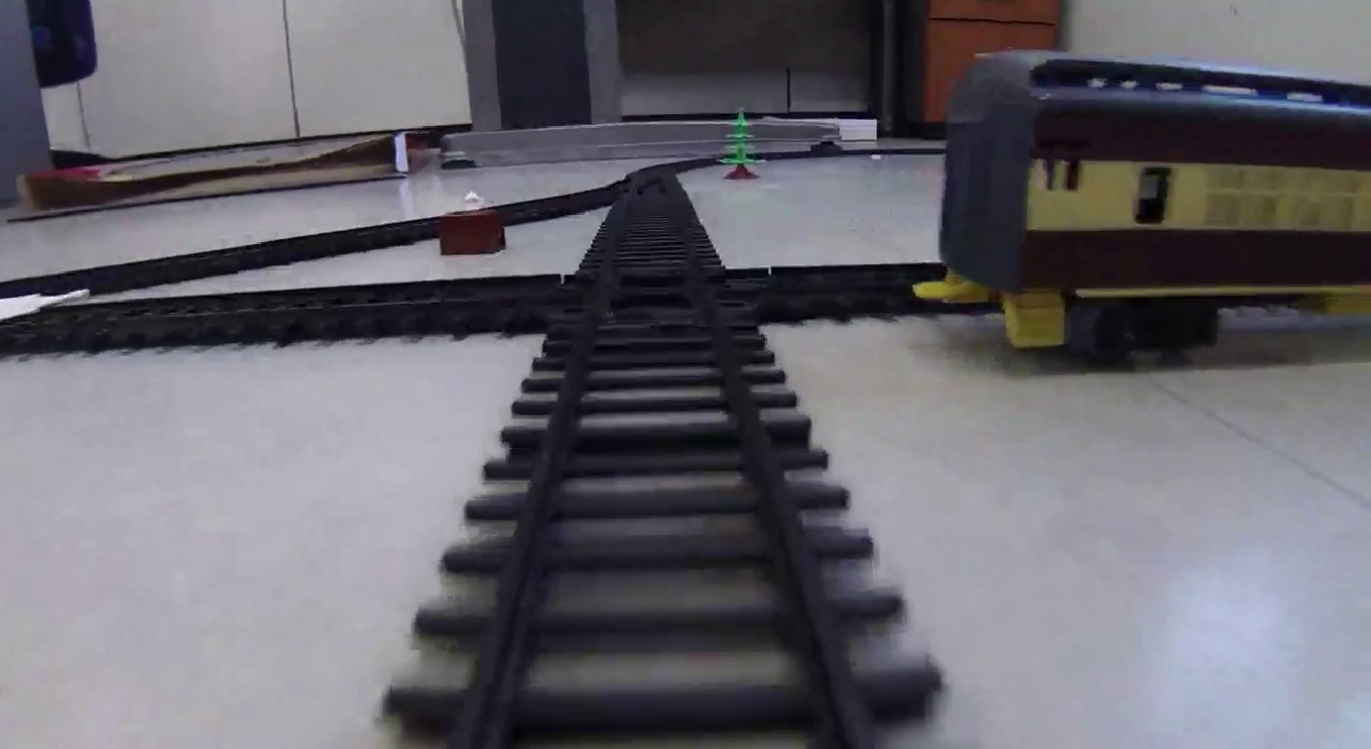box: (440, 208, 506, 254)
tree: (719, 110, 768, 181)
